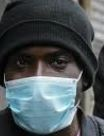with_facemask: (8, 79, 76, 130)
